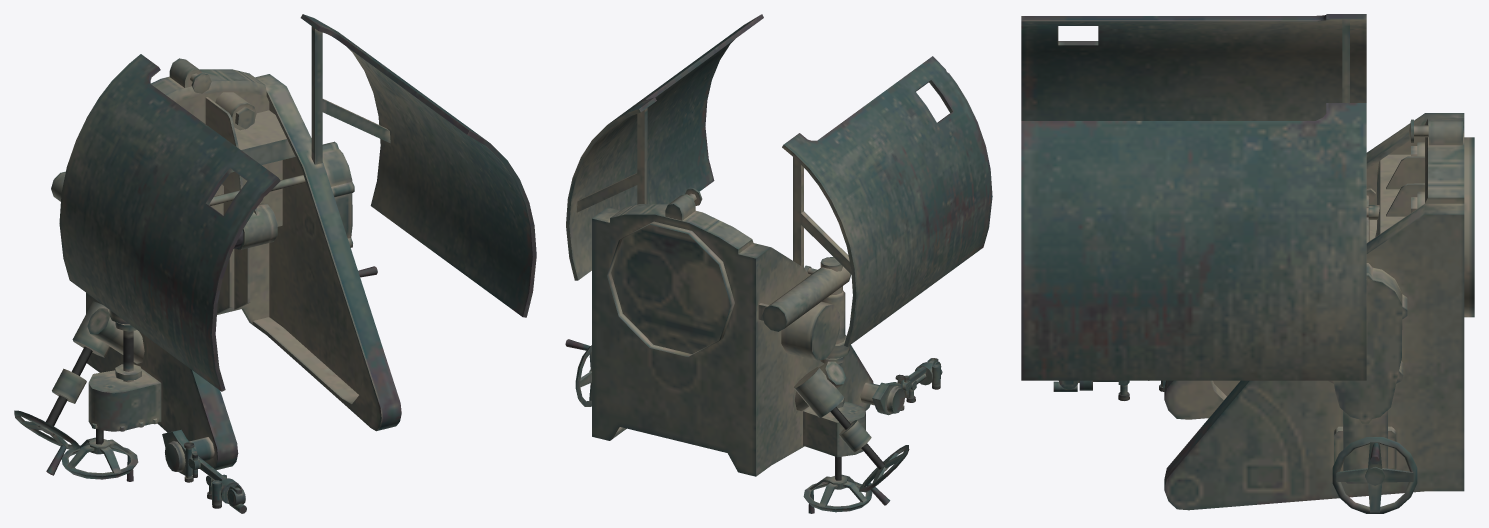
File: Turret_01.glb
The picture shows the model from 3 angles, left to right: view 1: azimuth 30°, elevation 25°; view 2: azimuth 150°, elevation 25°; view 3: azimuth 270°, elevation 25°; orthographic projection. The views are drawn at different scales.
Parts seen in each view (by area): view 1: set_0_group_0; view 2: set_0_group_0; view 3: set_0_group_0.
Boxes of the visible parts, <box> form: set_0_group_0: <box>14,14,536,513</box>; set_0_group_0: <box>565,14,992,513</box>; set_0_group_0: <box>1021,14,1474,513</box>.
Size of the model in its own units: 1.65 by 1.76 by 1.54.
1 material, 1 textured.
